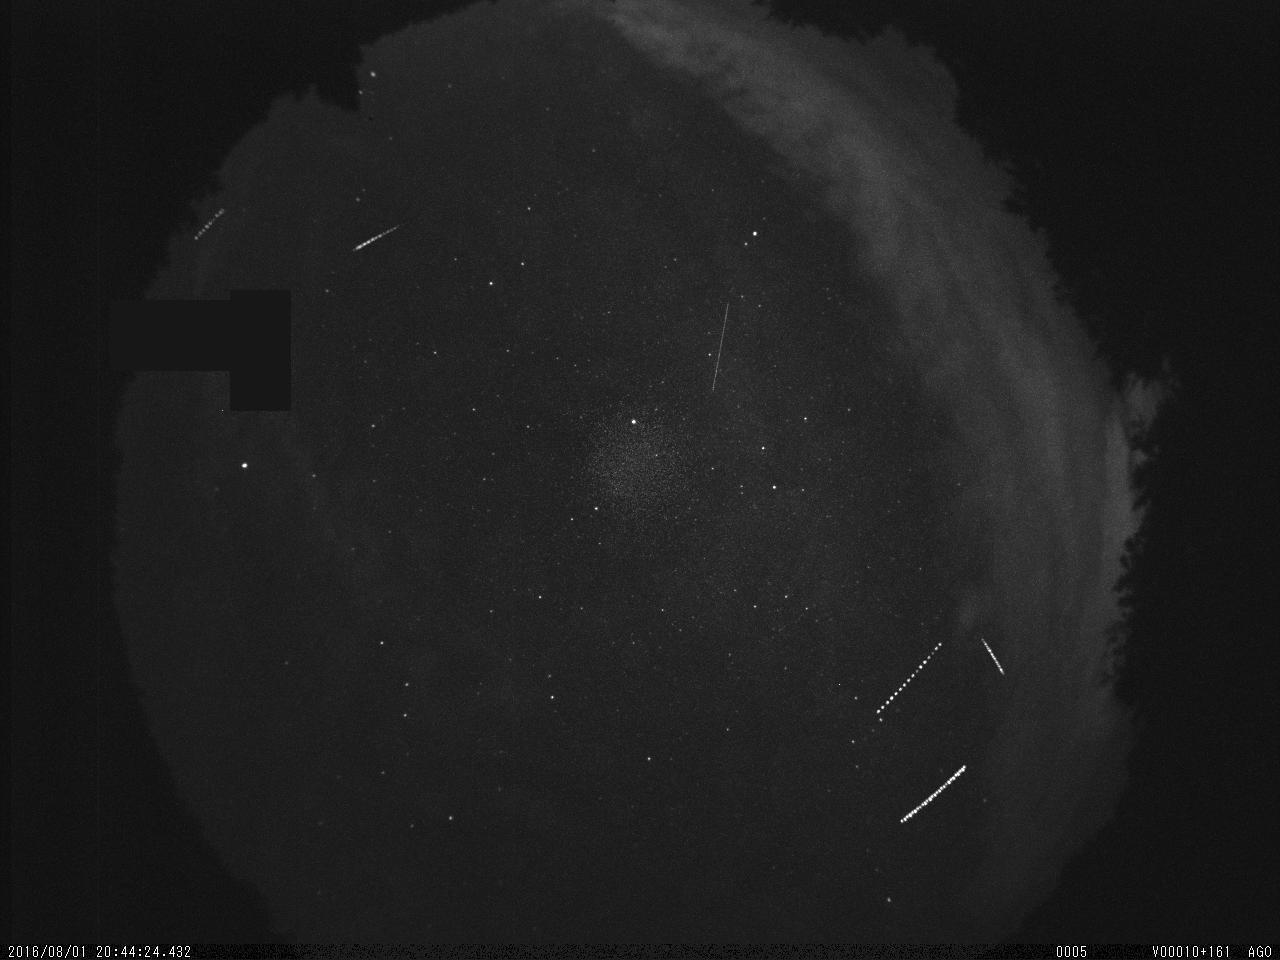meteor: (345, 215, 420, 262)
satelite: (870, 628, 949, 725), (892, 757, 974, 832), (706, 294, 735, 398), (184, 203, 236, 251), (976, 633, 1013, 683)
